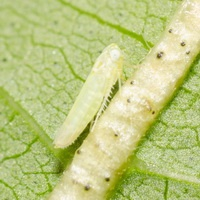insect: (49, 0, 199, 199), (53, 43, 122, 147)
